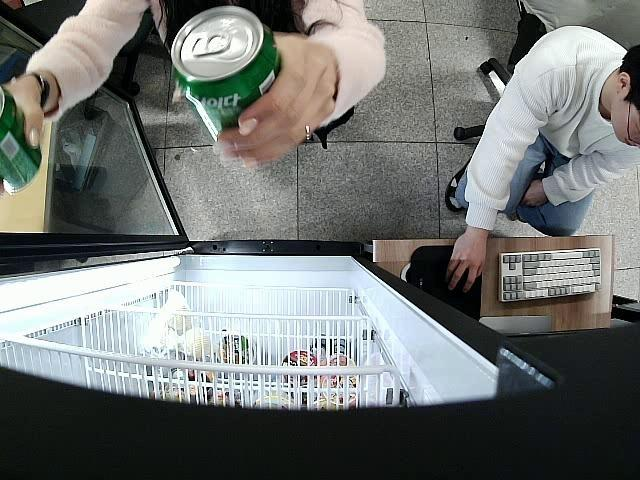12_chilsungCider: (172, 7, 281, 146), (0, 82, 39, 190)
